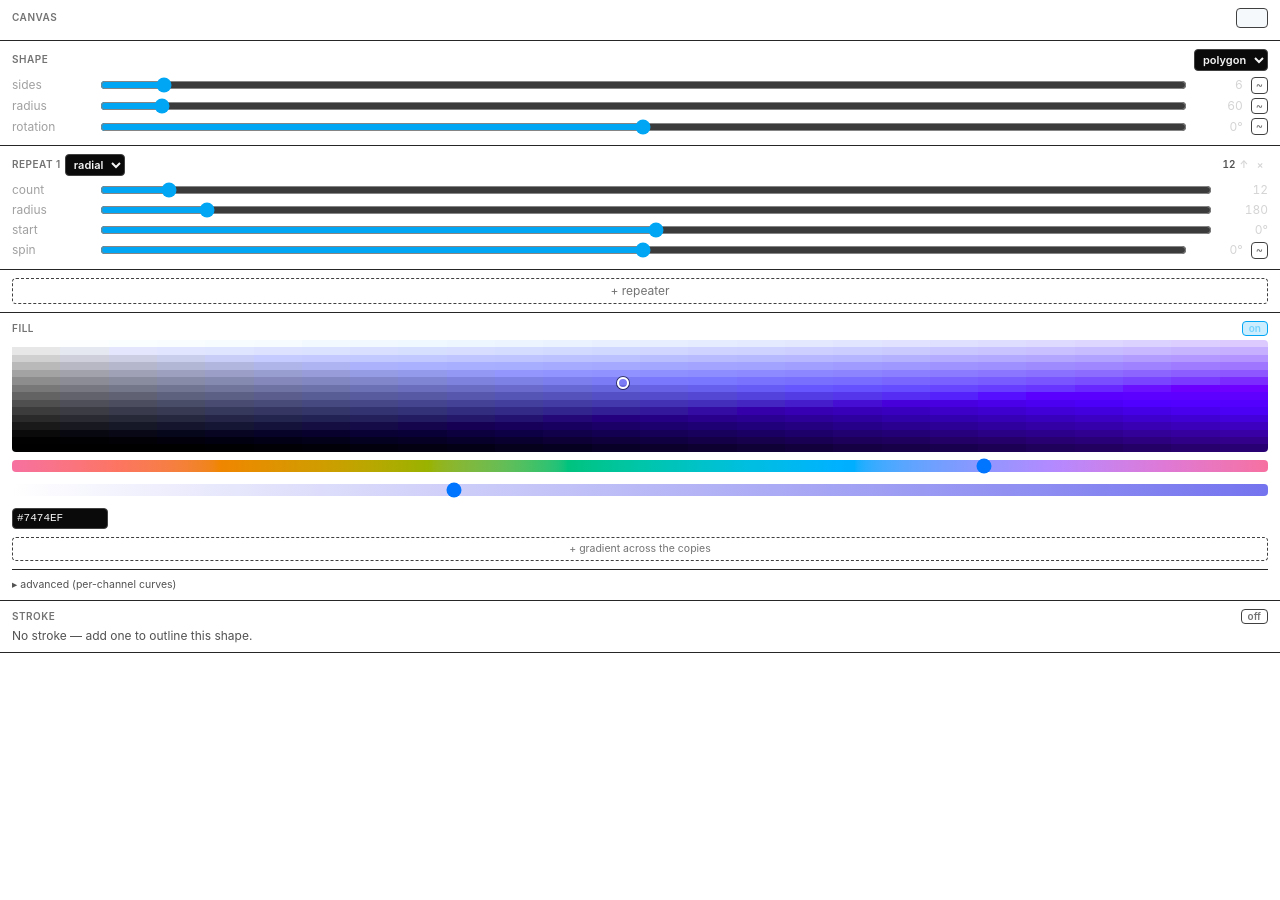
Test: Inspector › the repeater chain › adds a repeater to the end of the chain
Click the button with test id "add-repeater": (640, 291) [12,278,1268,304]
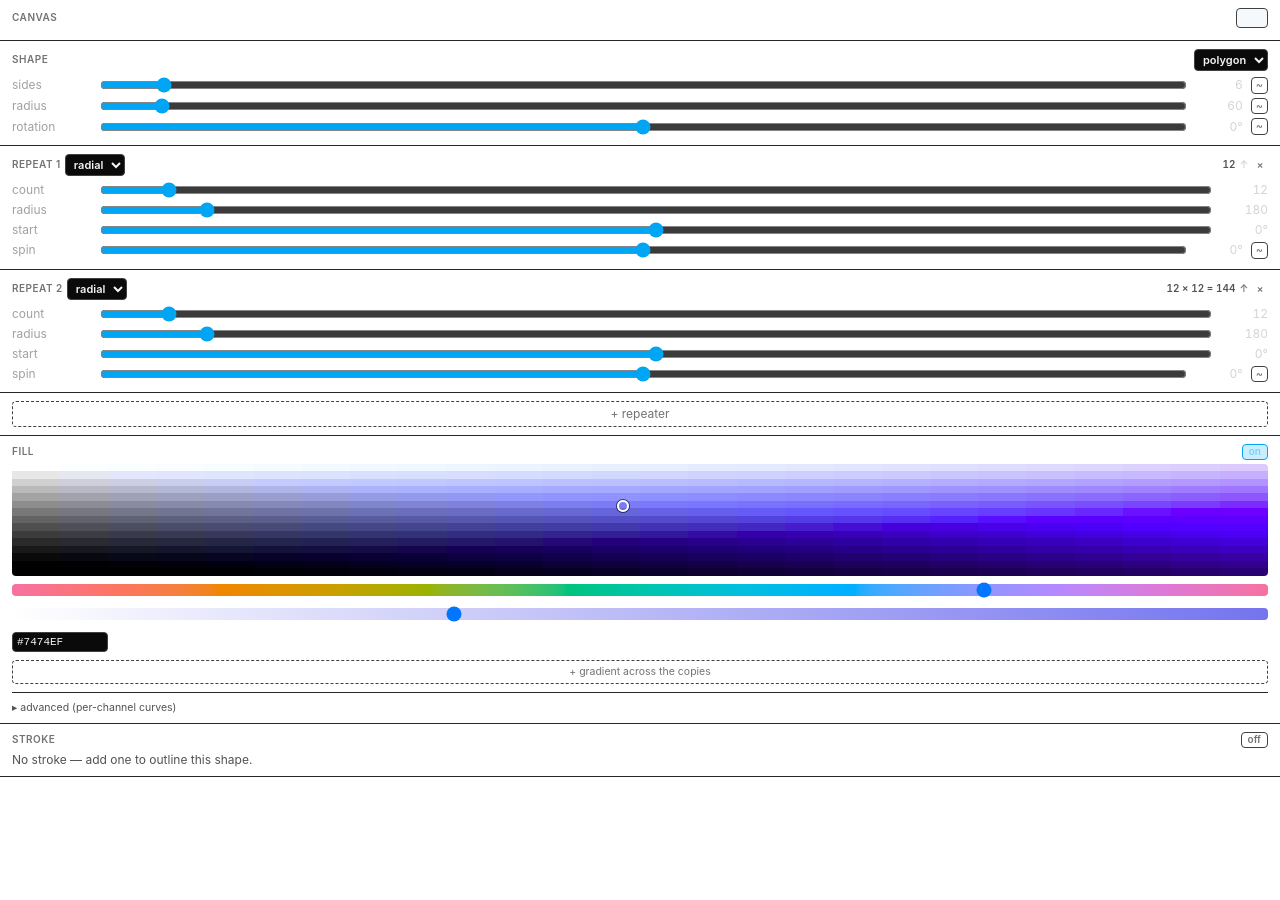
Check: the element with test id "card-repeater-1" is shown, box [0,270,1279,393]
